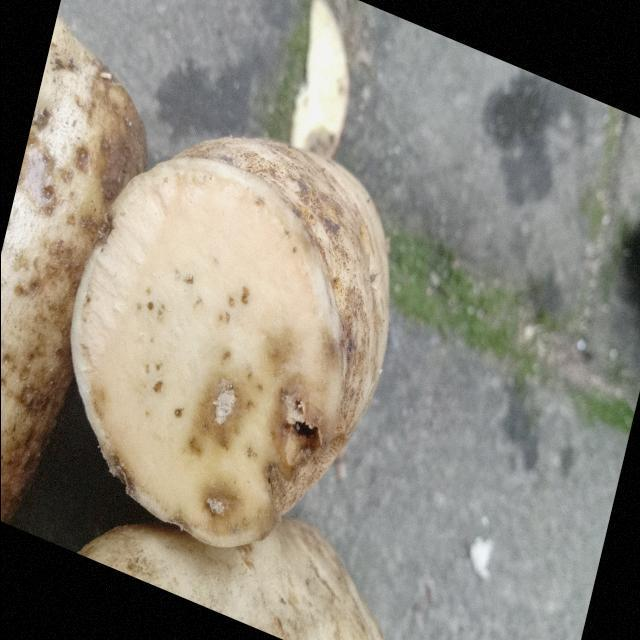Sick Sweet Potato_Tuber Rot: (70, 157, 341, 545)
